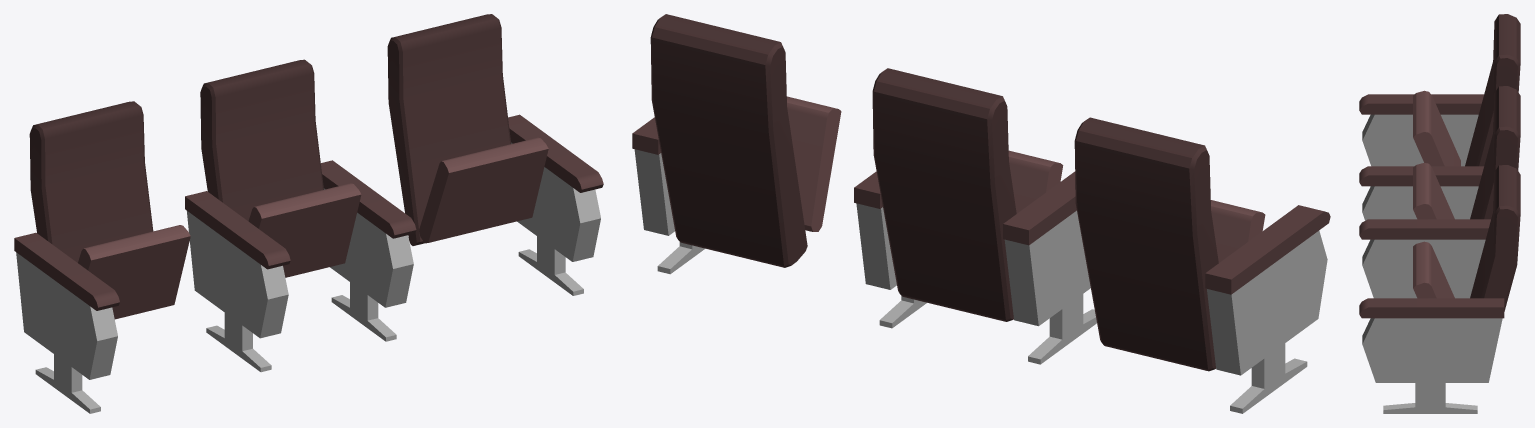
The model's file is Chair.fbx.
3 views of the same model, side by side, from view 1: azimuth 30°, elevation 25°; view 2: azimuth 150°, elevation 25°; view 3: azimuth 270°, elevation 25° (orthographic). The views are drawn at different scales.
Parts seen in each view (by area): view 1: Chair_Base, Chair_L, Chair_R; view 2: Chair_R, Chair_Base, Chair_L; view 3: Chair_L, Chair_Base, Chair_R.
Boxes of the visible parts, <box> form: Chair_Base: <box>185,59,416,372</box>; Chair_L: <box>387,14,603,295</box>; Chair_R: <box>14,101,190,413</box>; Chair_R: <box>1074,117,1330,413</box>; Chair_Base: <box>854,68,1096,364</box>; Chair_L: <box>632,14,841,274</box>; Chair_L: <box>1359,165,1520,413</box>; Chair_Base: <box>1359,86,1520,298</box>; Chair_R: <box>1359,14,1520,166</box>.
Size of the model in its own units: 241 by 106 by 77.14.
